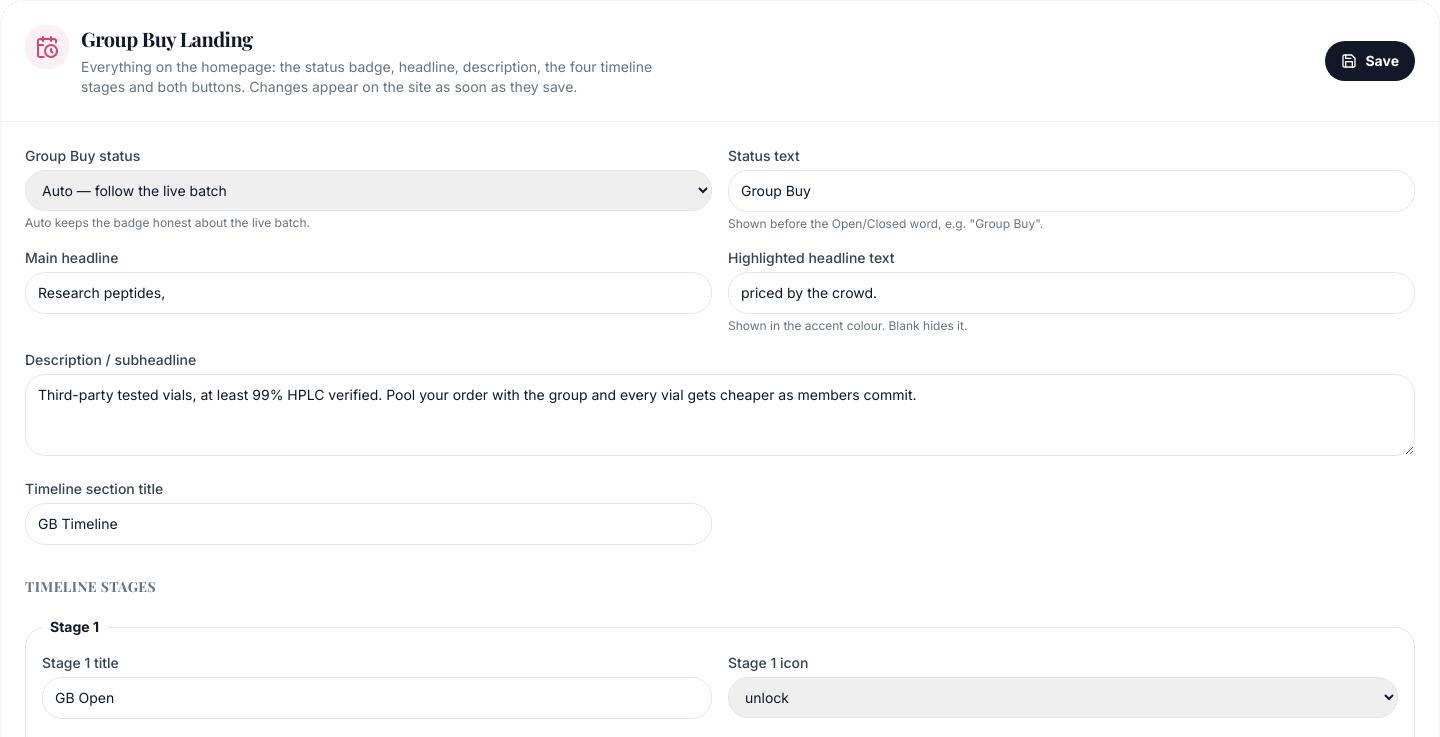
Scenario: GbLandingManager › surfaces a save failure instead of reporting success
Click the button "Save". click: (1370, 61)
box: [1326, 41, 1415, 81]
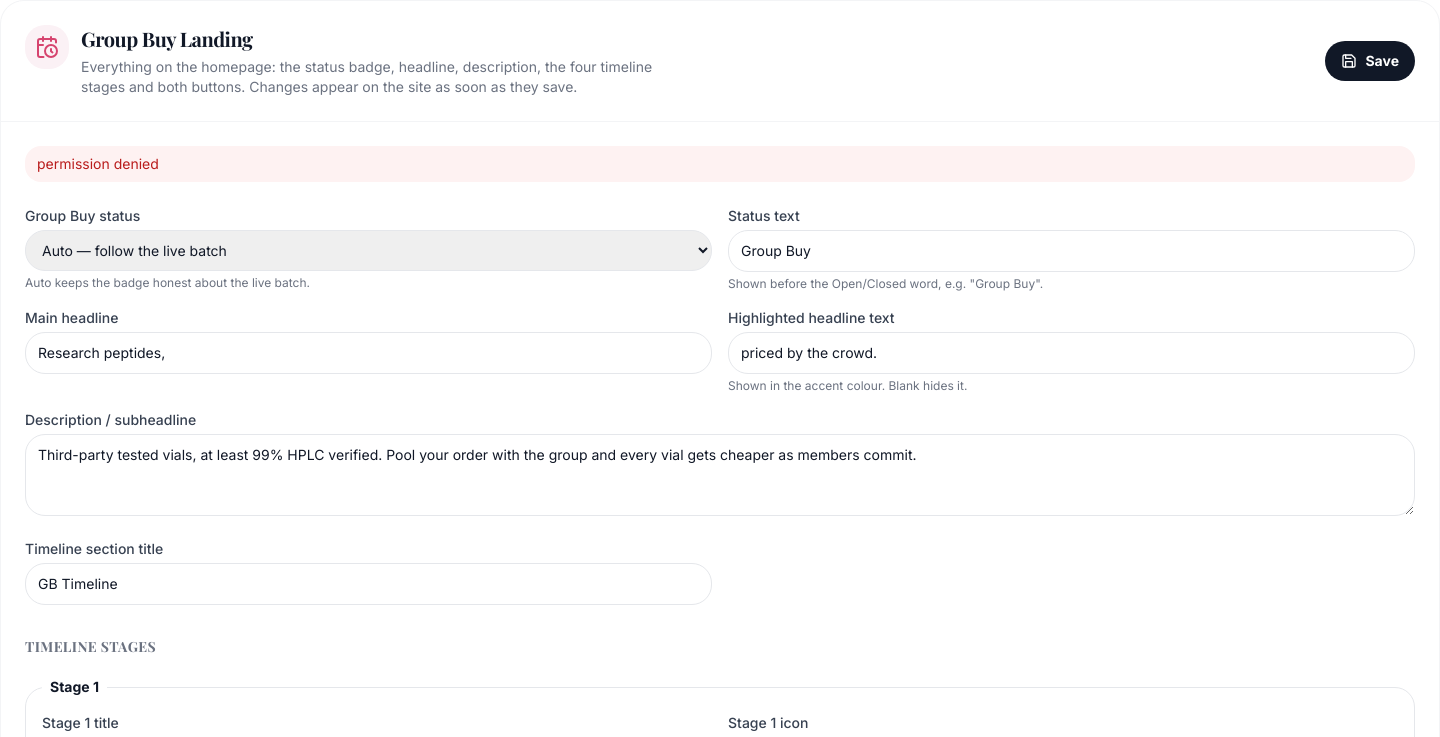
Check: the message reads "permission denied", box [37, 155, 159, 172]
